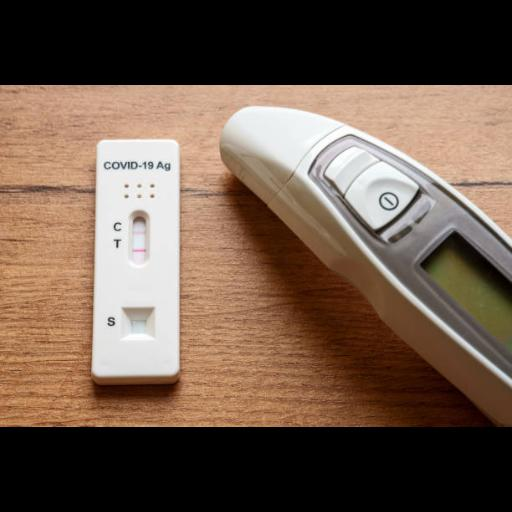Pos: (98, 140, 178, 374)
